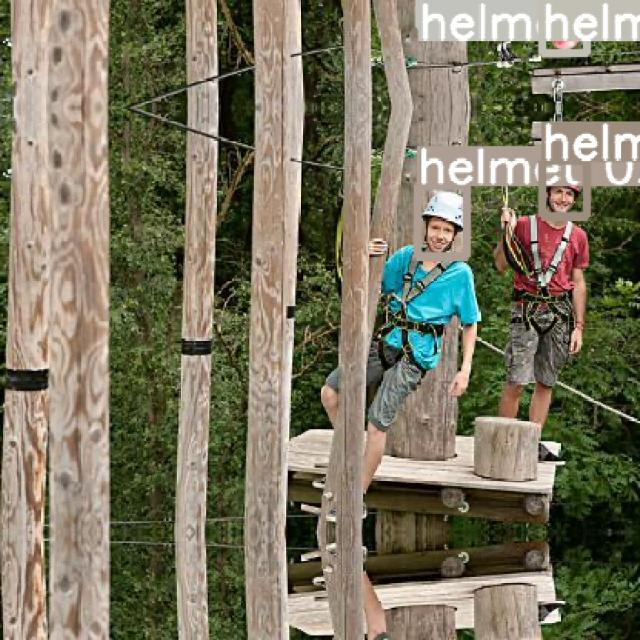Helmet: (421, 190, 464, 229)
